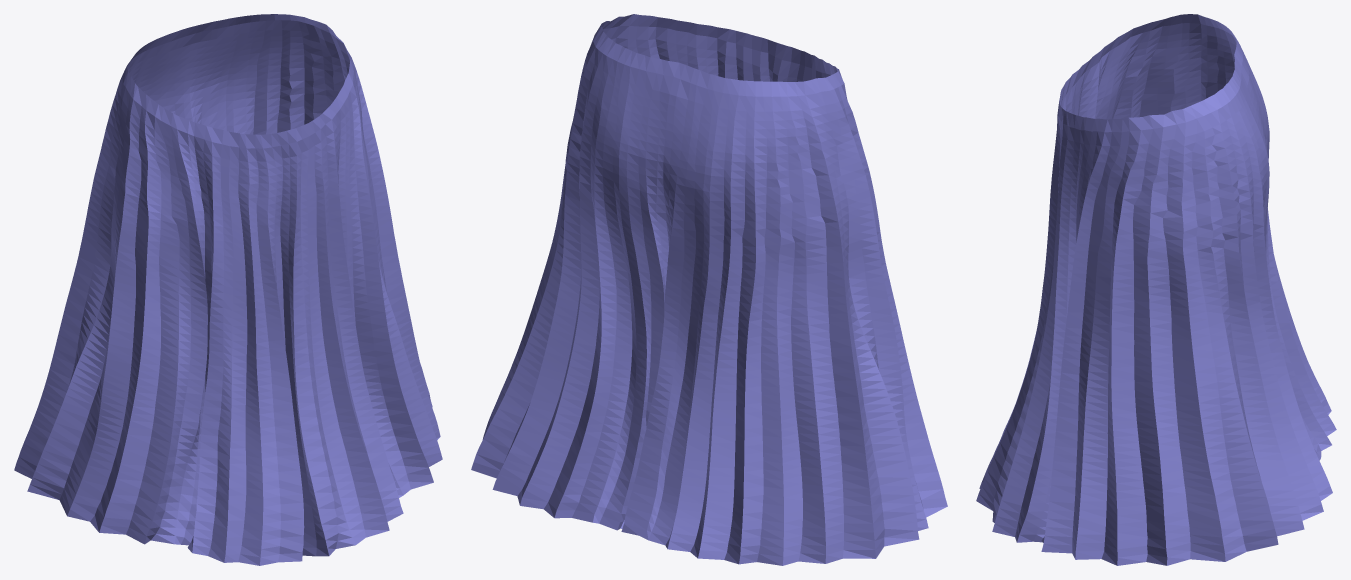
The model's file is 04561-grade-rotate.obj.
3 views of the same model, side by side, from view 1: azimuth 30°, elevation 25°; view 2: azimuth 150°, elevation 25°; view 3: azimuth 270°, elevation 25° (orthographic). The views are drawn at different scales.
Size of the model in its own units: 0.6526 by 0.7119 by 0.5087.
